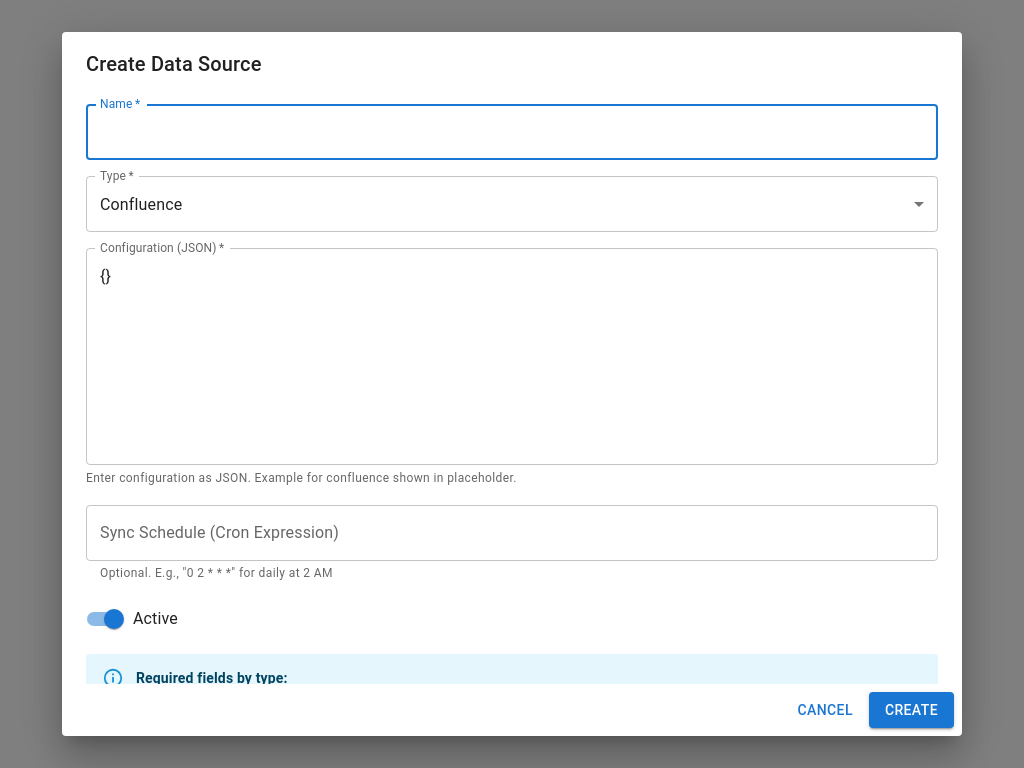
Test: DataSourceFormModal › should show error for invalid JSON in config field
Fill name
Type "Test Source" into the field labelled "Name *" at (512, 132), box [86,104,938,160]
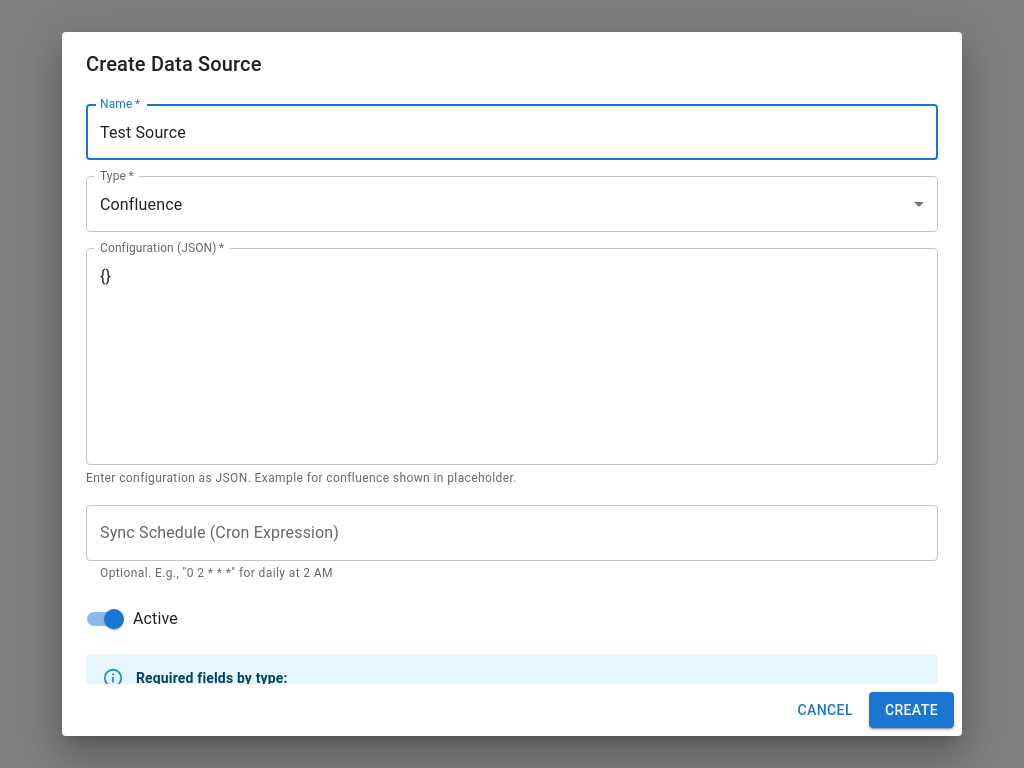
Enter invalid JSON
Clear the text box labelled "Configuration (JSON) *" at (512, 356), box [100,264,924,448]
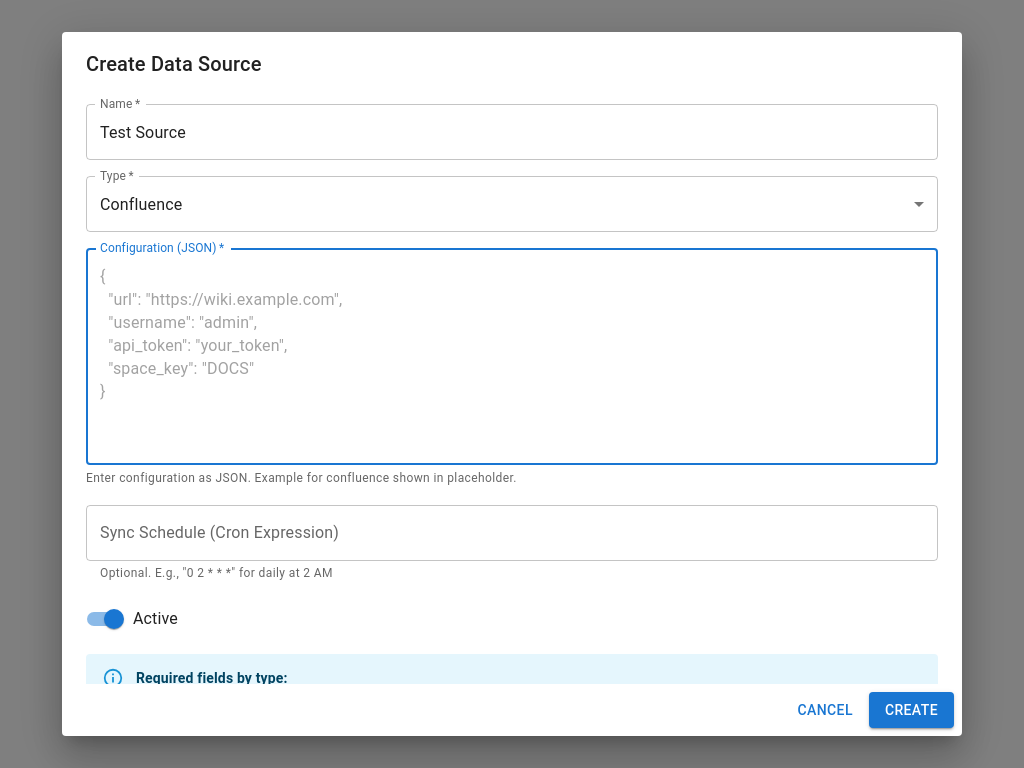
Type keys "{{invalid json}}"
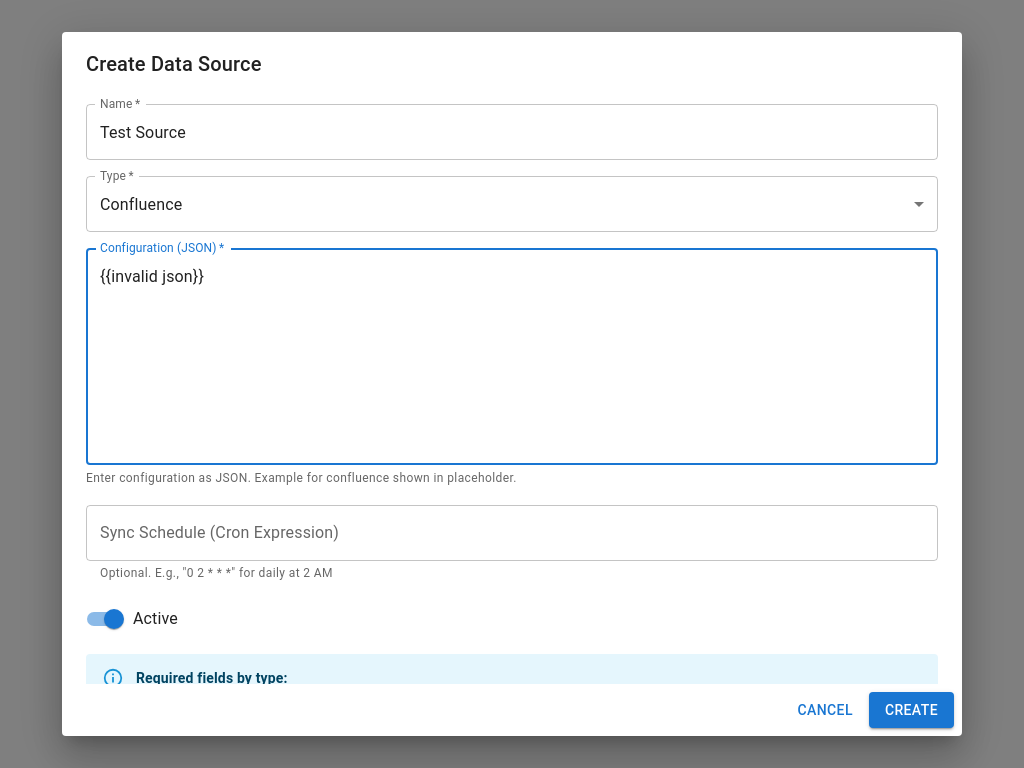
Try to submit
Click the button "Create" at (911, 710), box [869,692,954,728]
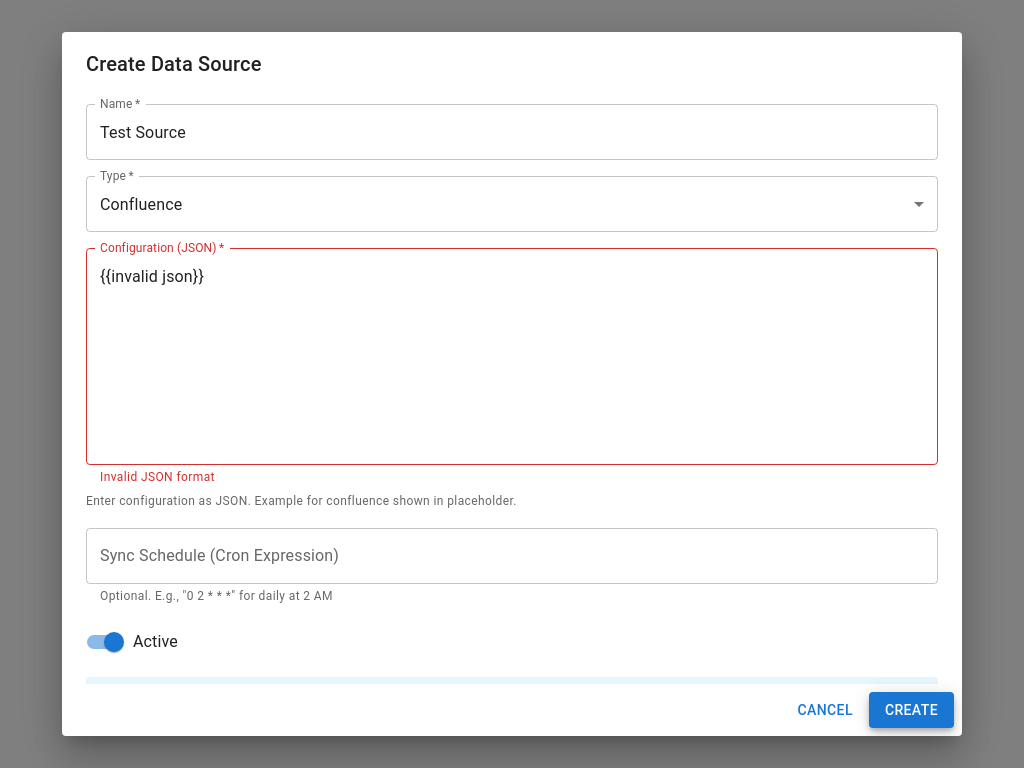
Result: the text "Invalid JSON format" is shown at [100,470,215,484]
